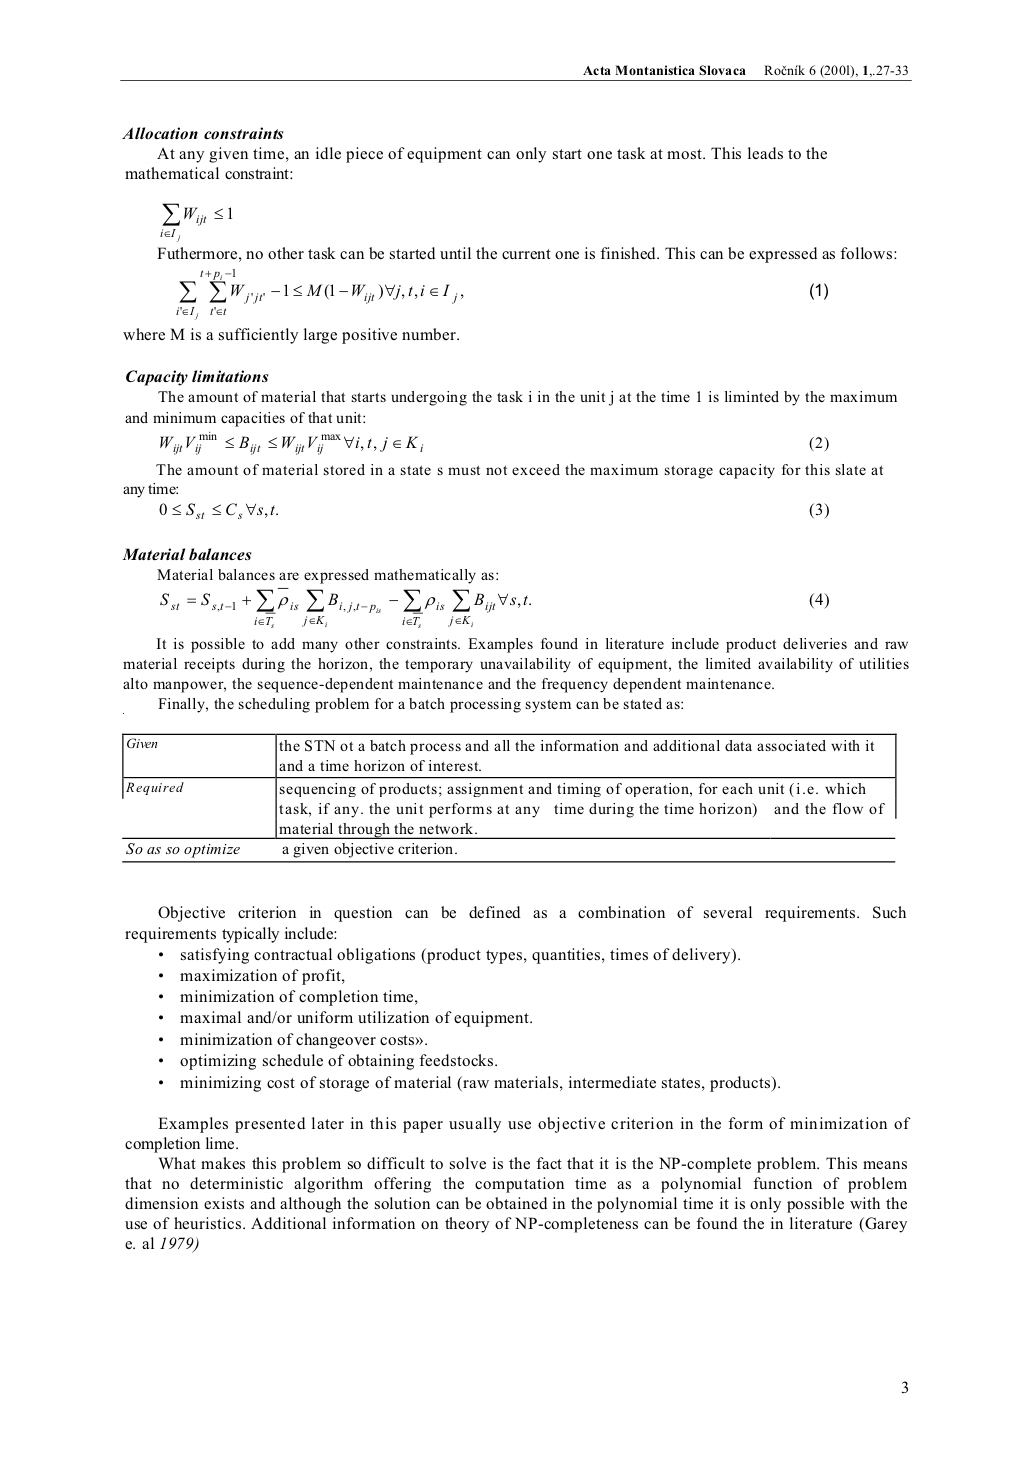Table: (122, 732, 896, 863)
formula: (176, 268, 827, 320), (160, 586, 828, 628), (160, 429, 828, 455), (158, 502, 828, 520), (160, 202, 232, 242)
